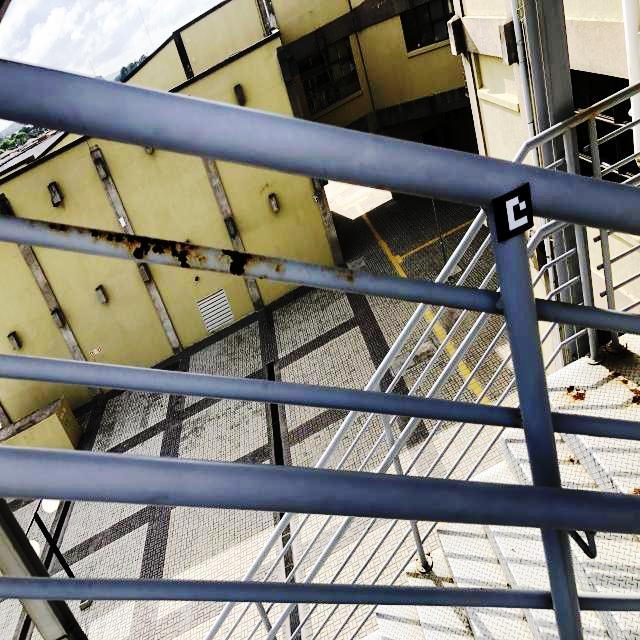Corrosion: (46, 224, 253, 275), (630, 387, 640, 405), (572, 390, 586, 401), (567, 385, 574, 394), (633, 487, 640, 494), (622, 378, 628, 385), (569, 455, 574, 463), (518, 414, 523, 422), (614, 372, 620, 376), (426, 552, 432, 556), (430, 556, 433, 558), (608, 368, 610, 370), (416, 559, 418, 561)
